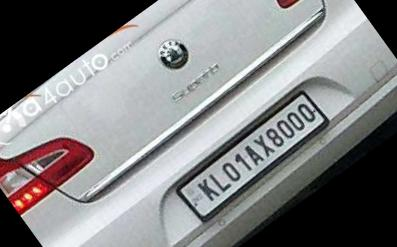plate: (169, 72, 355, 229)
